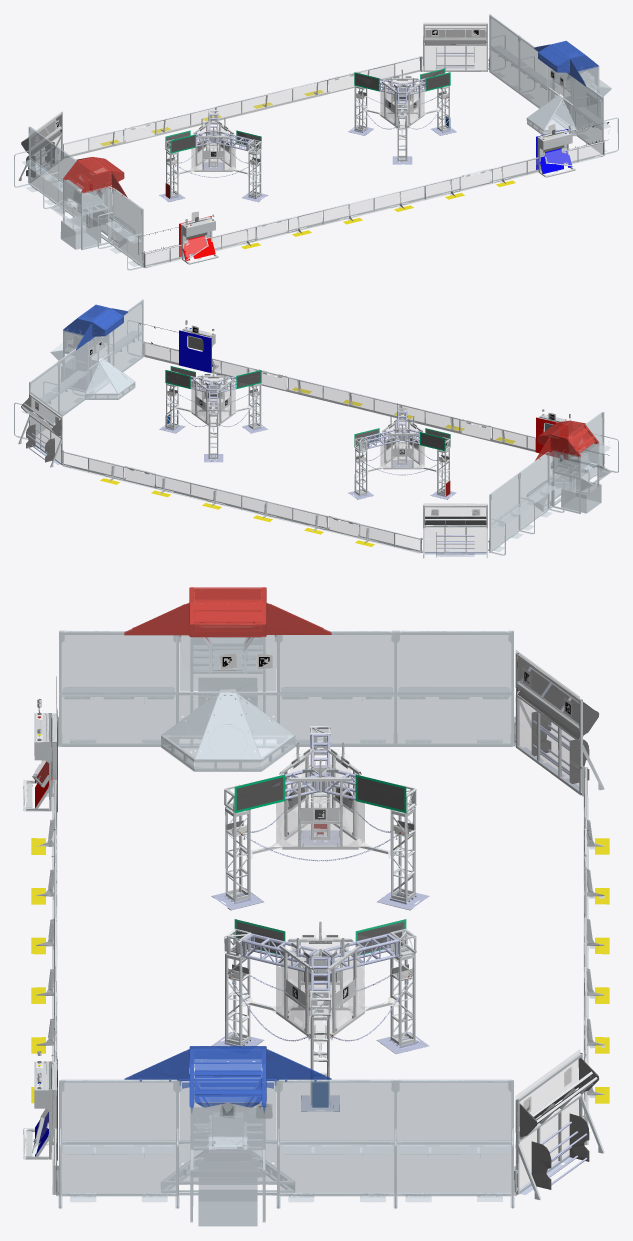
The model's file is field-2024-DskSHi16.glb.
3 renders of one model, top to bottom at view 1: azimuth 30°, elevation 25°; view 2: azimuth 150°, elevation 25°; view 3: azimuth 270°, elevation 25°, orthographic. The views are drawn at different scales.
Visible parts, largest first — view 1: FE-00082, GE-24010, FE-00004-09, FE-00004-02a, GE-24015-01, FE-00008, GE-24016, GE-24202-Vinyl, GE-24317, GE-24312, FE-00083_ID1, FE-00015 (+2 smaller); view 2: FE-00082, GE-24010, FE-00004-09, FE-00004-02a, GE-24015-01, FE-00008, GE-24202-Vinyl, GE-24317, GE-24016, GE-24312, FE-00083_ID1, GE-24115 (+2 smaller); view 3: FE-00004-02a, FE-00004-09, GE-24010, FE-00082, GE-24015-01, GE-24312, GE-24317, GE-24016, FE-00008, GE-24202-Vinyl, FE-00083_ID1, FE-00015 (+1 smaller).
Boxes of the visible parts, left/top/right/bottom form: FE-00082: left=31, top=23, right=602, bottom=264; GE-24010: left=18, top=24, right=604, bottom=268; FE-00004-09: left=14, top=126, right=143, bottom=270; FE-00004-02a: left=489, top=14, right=618, bottom=154; GE-24015-01: left=36, top=30, right=568, bottom=265; FE-00008: left=65, top=58, right=442, bottom=168; GE-24016: left=21, top=26, right=564, bottom=239; GE-24202-Vinyl: left=165, top=68, right=450, bottom=153; GE-24317: left=63, top=157, right=127, bottom=197; GE-24312: left=534, top=40, right=598, bottom=86; FE-00083_ID1: left=34, top=29, right=573, bottom=262; FE-00015: left=100, top=90, right=548, bottom=249; FE-00082: left=31, top=327, right=601, bottom=550; GE-24010: left=18, top=327, right=604, bottom=558; FE-00004-09: left=489, top=412, right=618, bottom=555; FE-00004-02a: left=14, top=299, right=143, bottom=440; GE-24015-01: left=27, top=369, right=486, bottom=556; FE-00008: left=64, top=367, right=449, bottom=549; GE-24202-Vinyl: left=165, top=366, right=450, bottom=451; GE-24317: left=535, top=420, right=599, bottom=460; GE-24016: left=21, top=331, right=559, bottom=557; GE-24312: left=63, top=304, right=127, bottom=350; FE-00083_ID1: left=33, top=325, right=568, bottom=515; GE-24115: left=179, top=330, right=214, bottom=372; FE-00004-02a: left=56, top=1079, right=516, bottom=1226; FE-00004-09: left=58, top=630, right=515, bottom=771; GE-24010: left=23, top=653, right=604, bottom=1200; FE-00082: left=32, top=650, right=583, bottom=1188; GE-24015-01: left=33, top=667, right=587, bottom=1185; GE-24312: left=124, top=1046, right=331, bottom=1113; GE-24317: left=124, top=587, right=331, bottom=642; GE-24016: left=51, top=658, right=599, bottom=1189; FE-00008: left=235, top=749, right=405, bottom=1037; GE-24202-Vinyl: left=234, top=774, right=406, bottom=1015; FE-00083_ID1: left=23, top=654, right=575, bottom=1155; FE-00015: left=31, top=734, right=609, bottom=1103.
Size of the model in its own units: 19.58 by 2.53 by 9.15.
